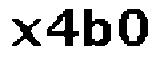0: (116, 6, 152, 51)
4: (45, 7, 79, 49)
b: (82, 7, 111, 50)
x: (9, 16, 43, 49)
